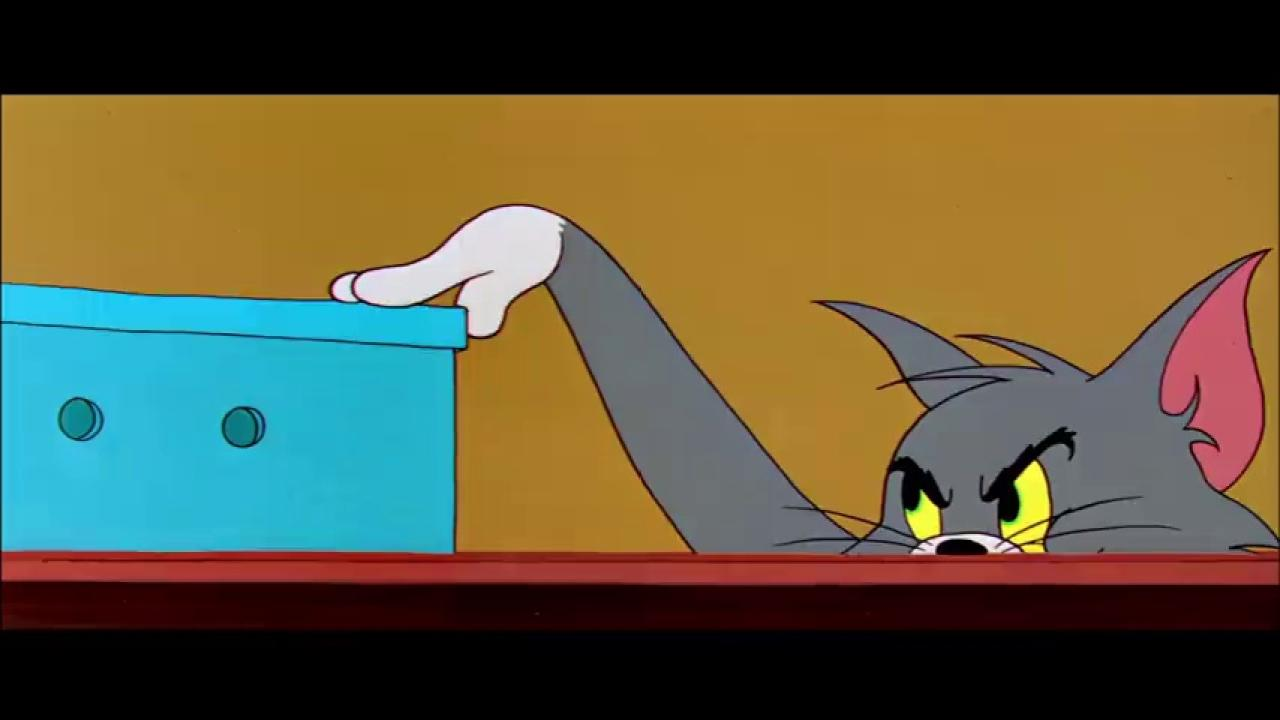Tom: (327, 199, 1280, 556)
